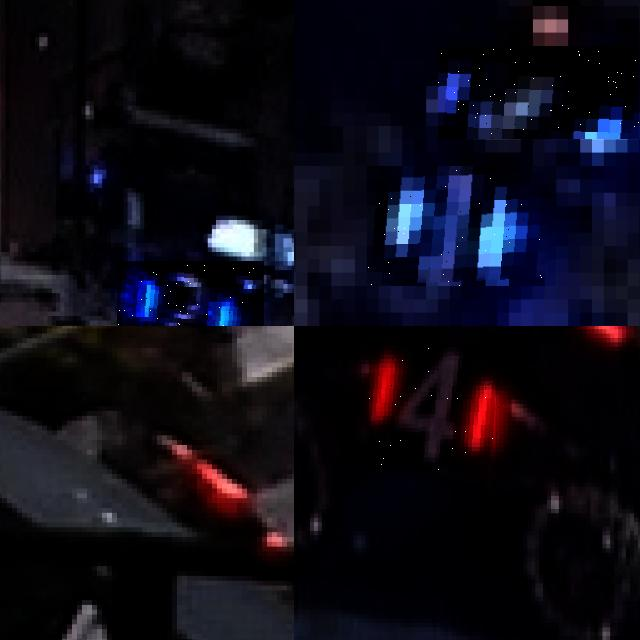B2: (116, 261, 264, 326)
B3: (367, 166, 556, 286), (438, 46, 639, 139)
R4: (369, 342, 500, 470)
